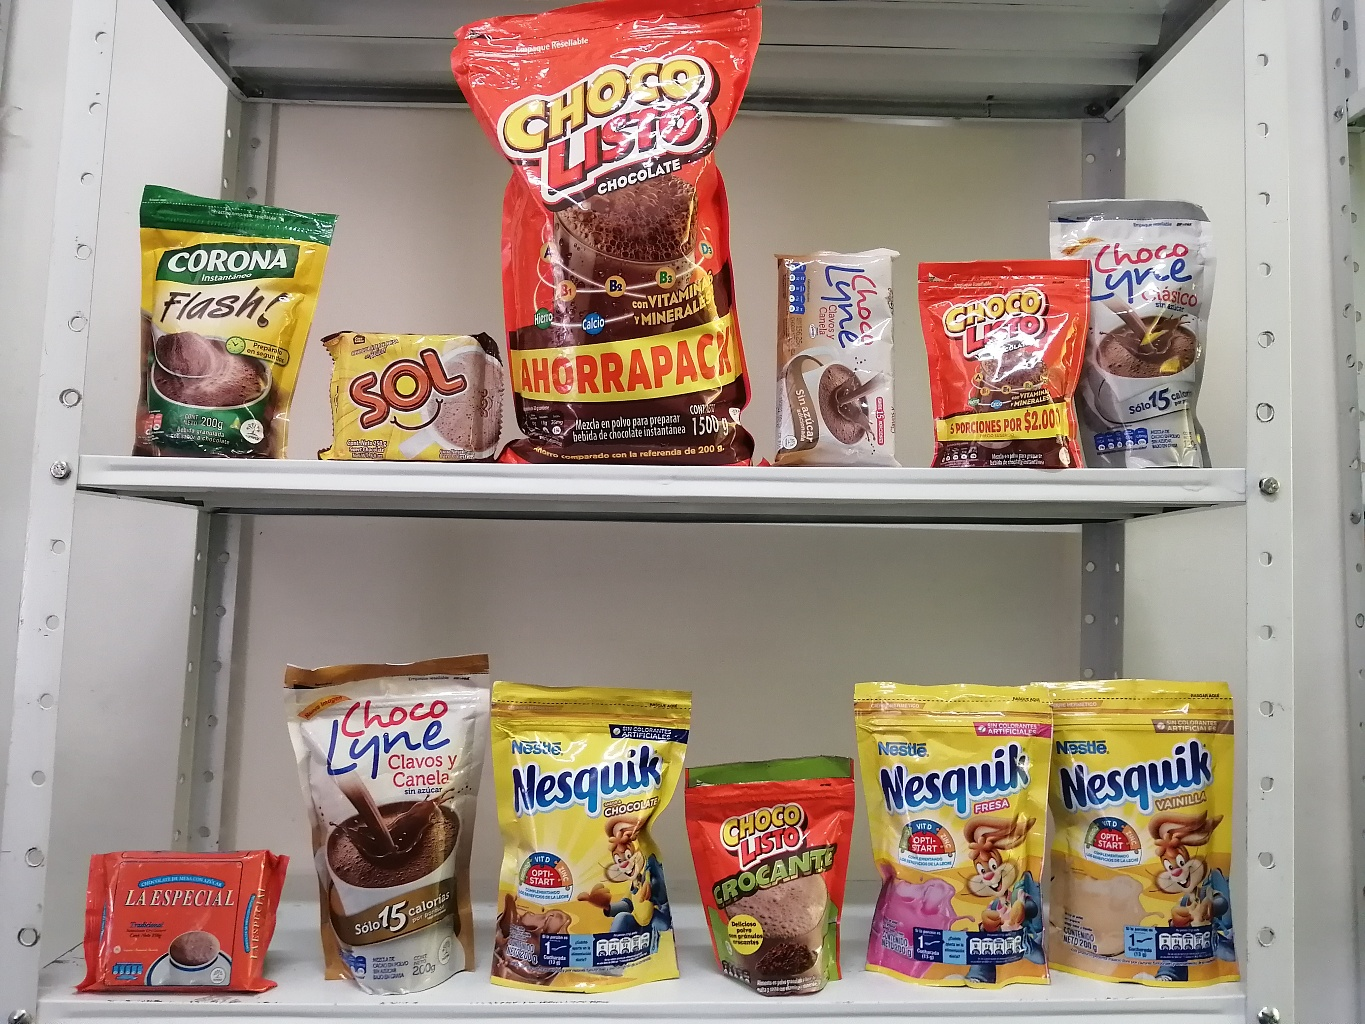COL0170102DYP10000: (659, 743, 870, 1005)
COL0170103DYP1,500: (439, 5, 799, 477)
COL0170303DYP20000: (436, 624, 697, 1002)
COL0170305DYP20000: (820, 662, 1093, 1002)
COL0170306DYP20000: (1018, 666, 1289, 999)
